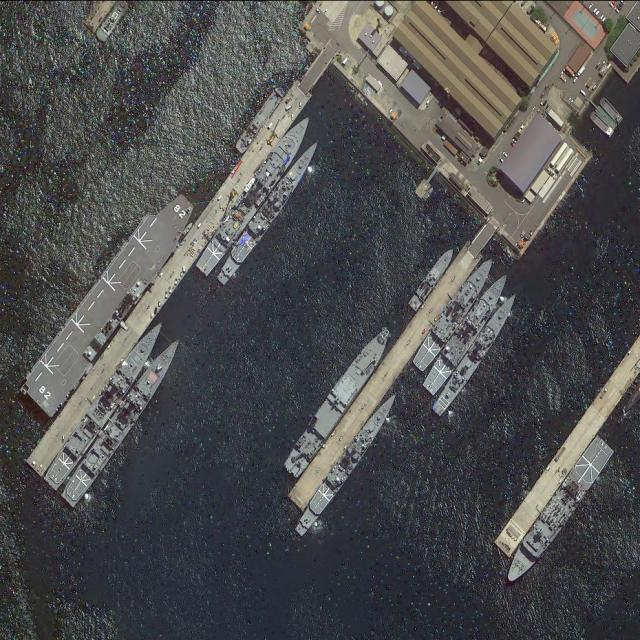Auxiliary Ships: (281, 326, 394, 478)
Destroyer: (19, 183, 204, 418), (54, 331, 189, 511), (38, 312, 171, 494), (211, 135, 326, 286), (291, 387, 403, 538), (429, 290, 524, 418), (419, 270, 514, 396), (410, 256, 498, 373)
Dock: (23, 52, 333, 475), (285, 216, 498, 511)
Landing: (498, 436, 618, 587)
Other Warship: (233, 85, 288, 155), (407, 246, 458, 312)
